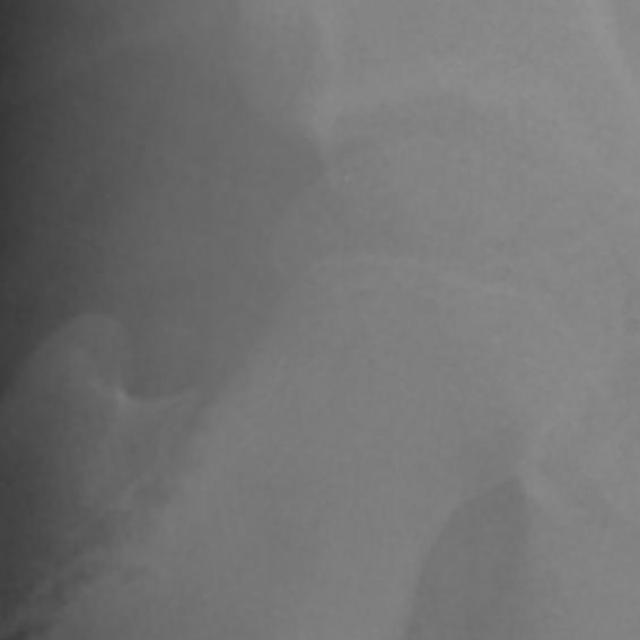Fitted_femural_head: (372, 138, 432, 372)
